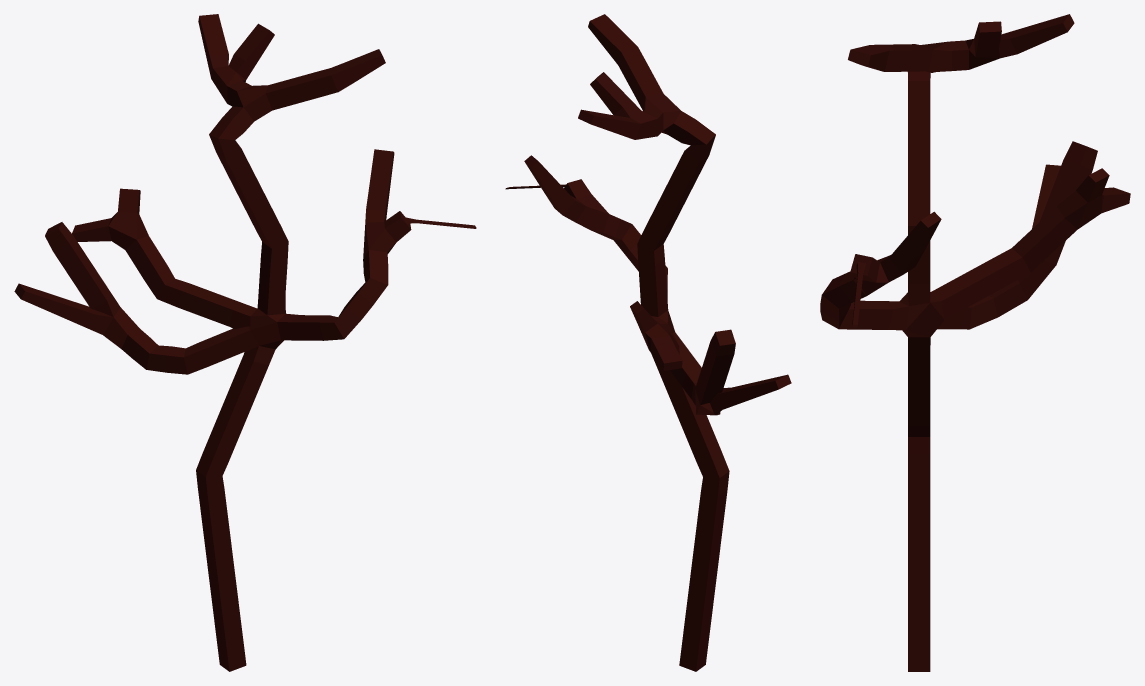
File: Tree.fbx
3 views of the same model, side by side, from view 1: azimuth 30°, elevation 25°; view 2: azimuth 150°, elevation 25°; view 3: azimuth 270°, elevation 25° (orthographic). The views are drawn at different scales.
Parts seen in each view (by area): view 1: Vert; view 2: Vert; view 3: Vert.
Boxes of the visible parts, x1=… form: Vert: x1=14, y1=14, x2=476, y2=671; Vert: x1=505, y1=14, x2=791, y2=671; Vert: x1=820, y1=14, x2=1130, y2=671.
Size of the model in its own units: 756 by 1176 by 482.
